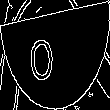O_N: (41, 27, 69, 83)
